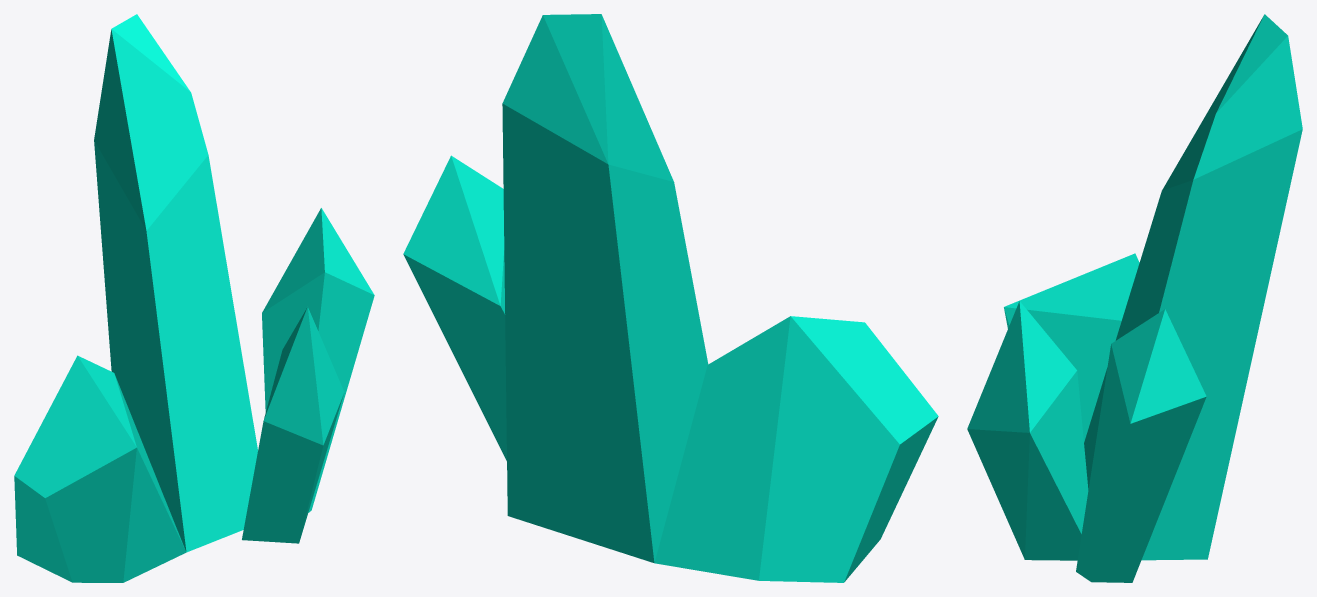
The model's file is Crystal-D05.fbx.
The picture shows the model from 3 angles, left to right: view 1: azimuth 30°, elevation 25°; view 2: azimuth 150°, elevation 25°; view 3: azimuth 270°, elevation 25°; orthographic projection. The views are drawn at different scales.
Parts seen in each view (by area): view 1: Crystal-D05; view 2: Crystal-D05; view 3: Crystal-D05.
Boxes of the visible parts, x1,y1,x2,y2 form: Crystal-D05: (14,14,374,582); Crystal-D05: (403,14,938,582); Crystal-D05: (967,14,1302,582).
Bounding box in the file's own units: 169 × 199 × 120.
